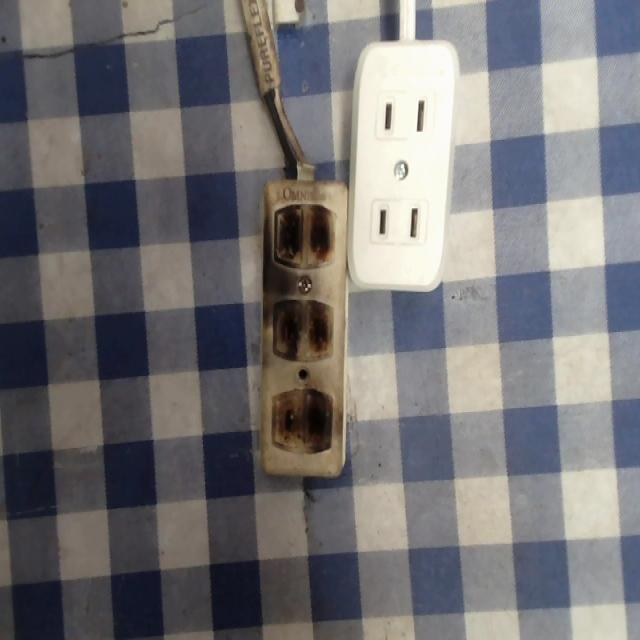-: (271, 201, 336, 272), (272, 389, 335, 456), (273, 297, 334, 363)
